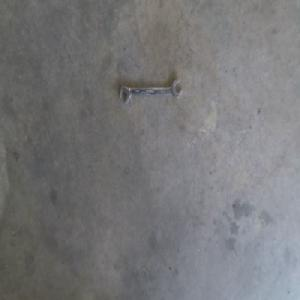Wrench: (118, 78, 183, 105)
